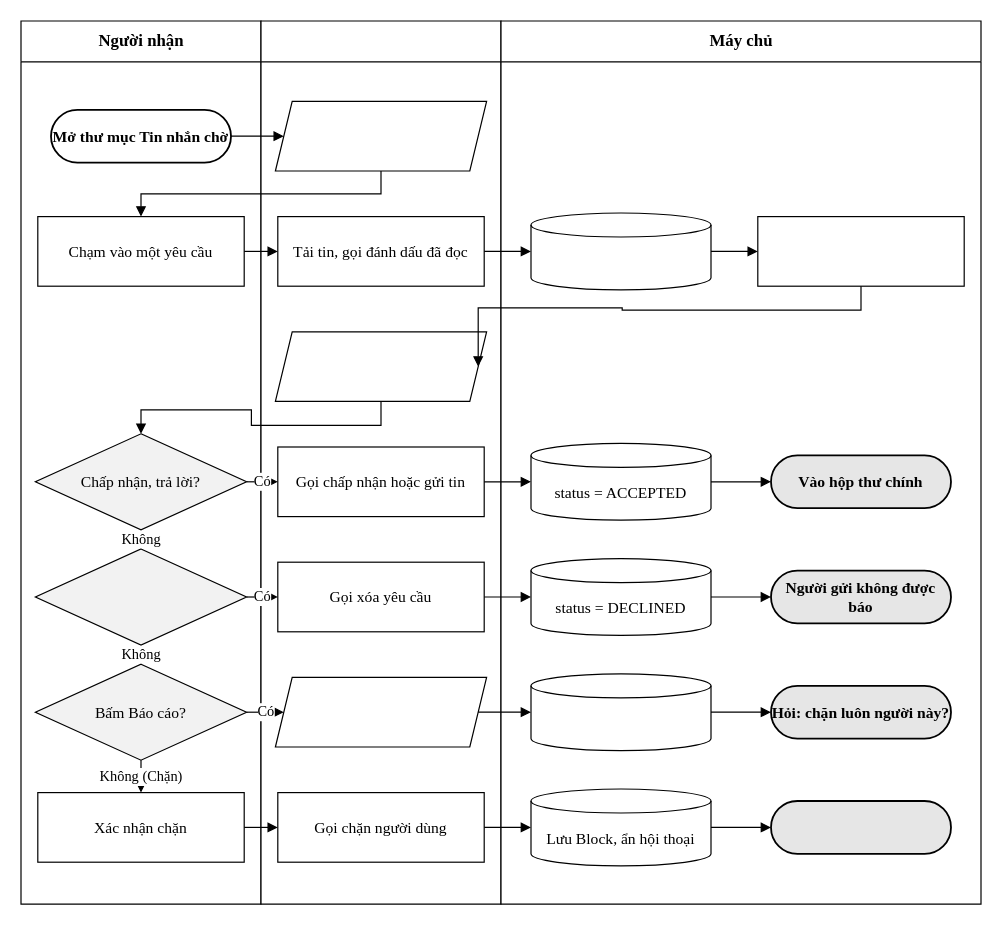
Some shapes in this 1002 by 925 pixel diagram are drawn without their labels. Each missing label, with the box of its shape:
Bấm Xóa?: (34, 548, 247, 645)
Chọn lý do báo cáo: (274, 676, 487, 747)
Danh sách, không hiện nội dung: (274, 100, 487, 171)
Ghi giờ đọc, không báo người gửi: (530, 212, 711, 290)
Gắn cảnh báo lừa đảo, giả mạo: (757, 215, 964, 286)
Màn chat: cảnh báo và 4 nút: (274, 331, 487, 401)
Người gửi không nhắn được: (770, 800, 951, 854)
Report, bản chụp, DECLINED: (530, 673, 711, 751)
Ứng dụng: (260, 20, 501, 904)
